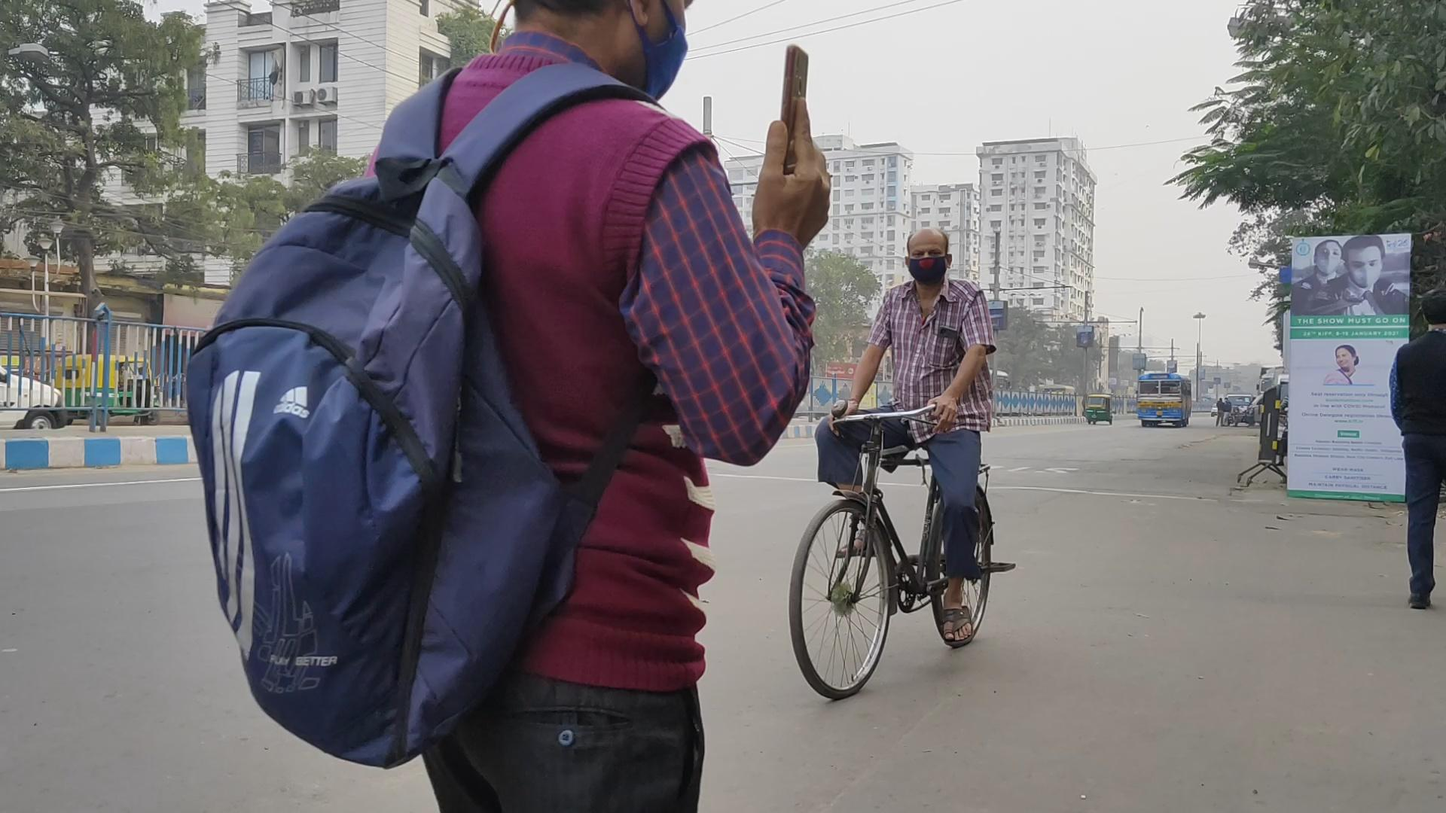Auto: (1084, 394, 1114, 425)
Bus: (1136, 373, 1192, 428)
bike: (789, 227, 1016, 701)
car: (1225, 391, 1257, 427)
